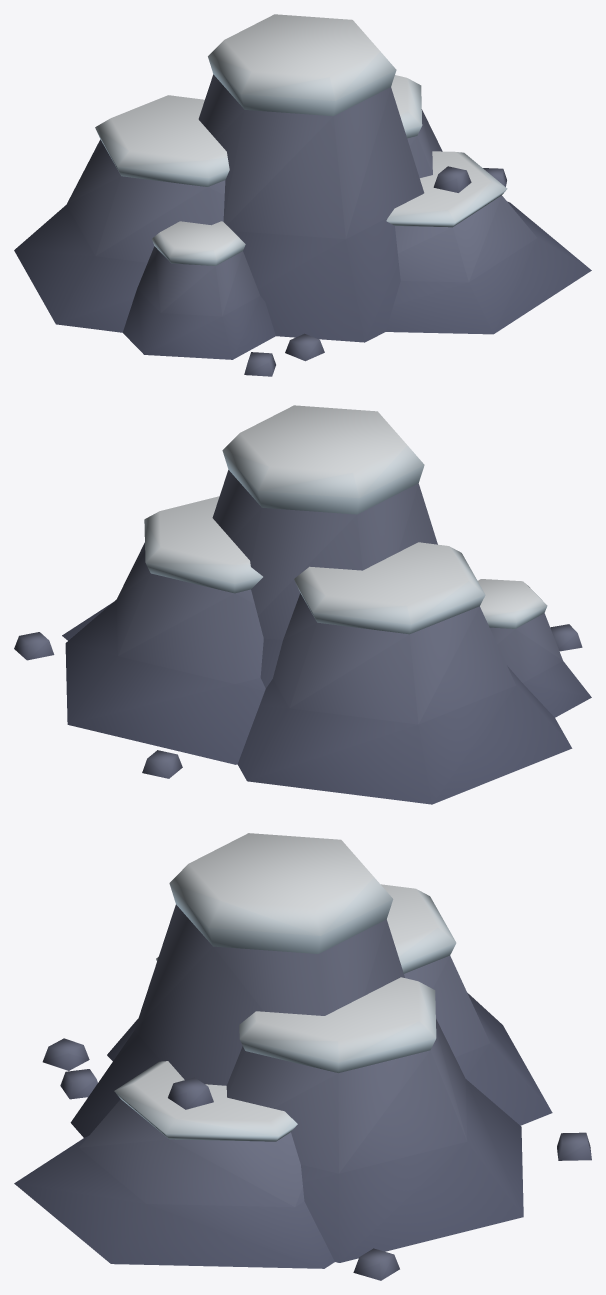
Rendered from sw_rocks_small.glb.
3 renders of one model, top to bottom at view 1: azimuth 30°, elevation 25°; view 2: azimuth 150°, elevation 25°; view 3: azimuth 270°, elevation 25°, orthographic. The views are drawn at different scales.
Visible parts, largest first — view 1: sw_rocks_small; view 2: sw_rocks_small; view 3: sw_rocks_small.
Part boxes in pixels (left/top/right/bottom): sw_rocks_small: left=14, top=14, right=591, bottom=376; sw_rocks_small: left=14, top=405, right=591, bottom=804; sw_rocks_small: left=14, top=833, right=591, bottom=1280.
Size of the model in its own units: 2.38 by 1.05 by 2.06.
